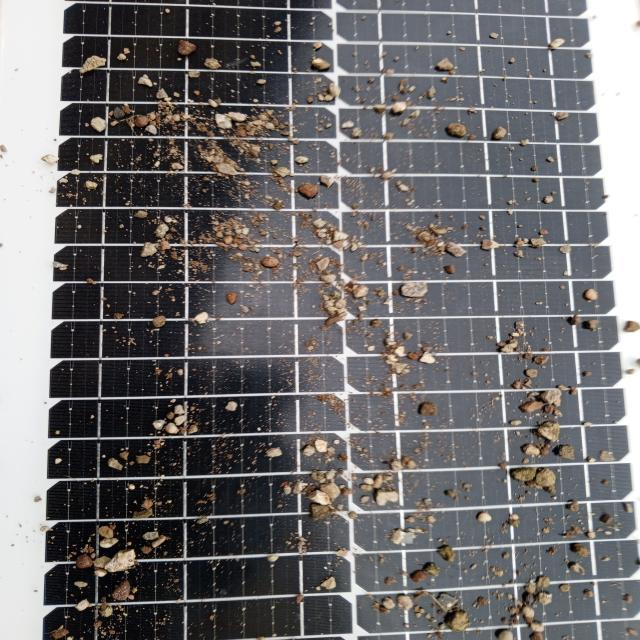Surface Contaminant: (23, 4, 632, 639)
